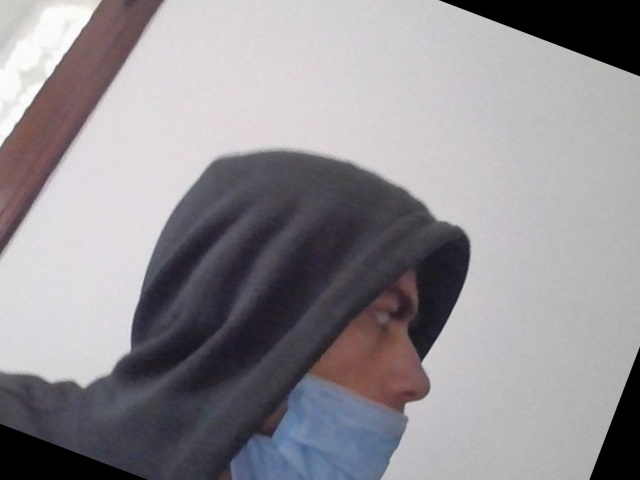mask_weared_incorrect: (257, 218, 468, 480)
